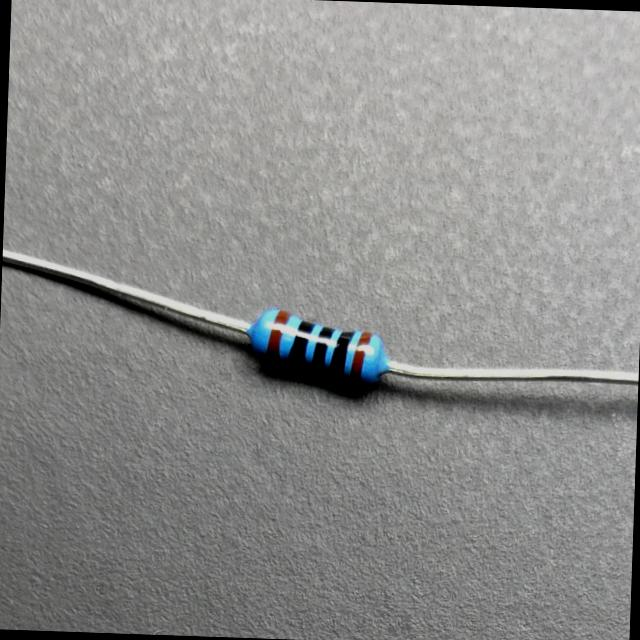Resistor: (247, 308, 388, 384)
black: (289, 321, 318, 367), (330, 331, 353, 376), (314, 327, 336, 371)
brown: (350, 331, 372, 386), (269, 312, 290, 365)
